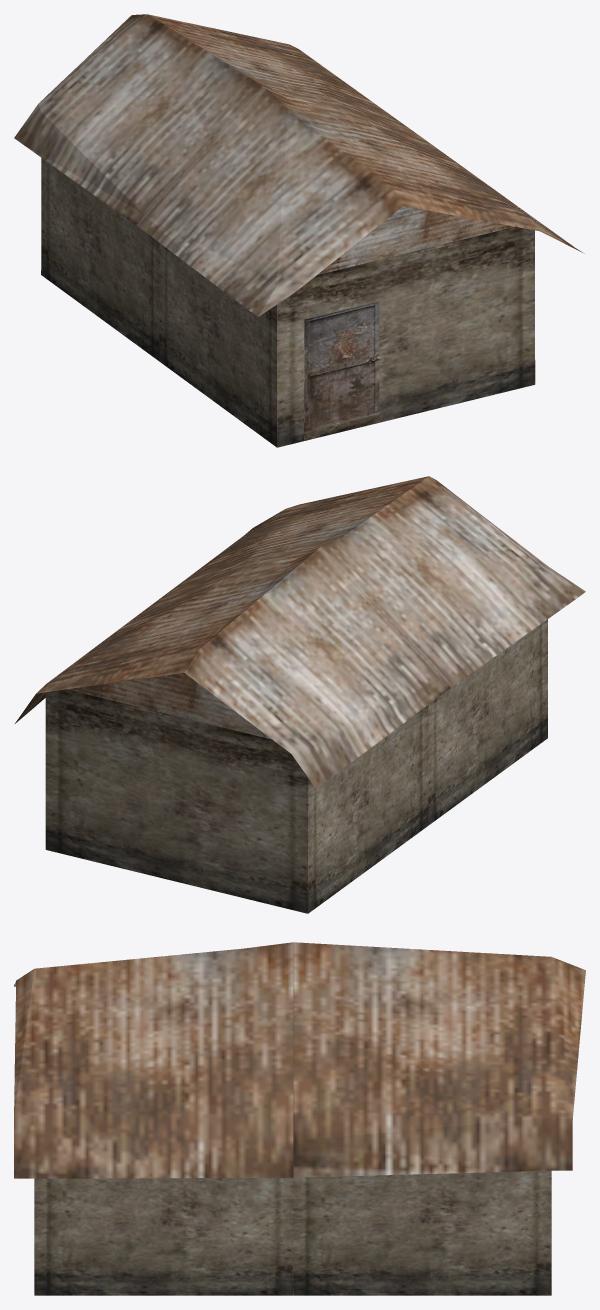
File: PwrGenhs.glb
The picture shows the model from 3 angles, top to bottom: view 1: azimuth 30°, elevation 25°; view 2: azimuth 150°, elevation 25°; view 3: azimuth 270°, elevation 25°; orthographic projection. The views are drawn at different scales.
Visible parts, largest first — view 1: _PwrGenhs; view 2: _PwrGenhs; view 3: _PwrGenhs.
Boxes of the visible parts, x1=… form: _PwrGenhs: x1=14, y1=14, x2=584, y2=447; _PwrGenhs: x1=15, y1=476, x2=585, y2=913; _PwrGenhs: x1=14, y1=942, x2=585, y2=1295.
Size of the model in its own units: 6.67 by 4.83 by 9.2.
2 materials, 2 textured.
